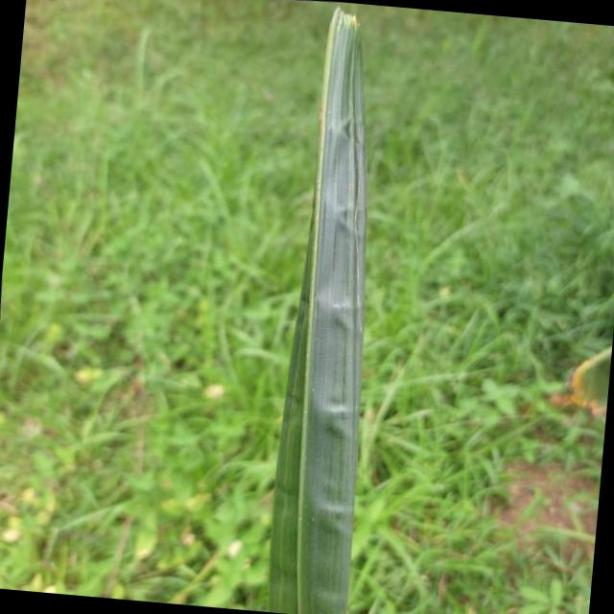Boron: (260, 0, 368, 614)
